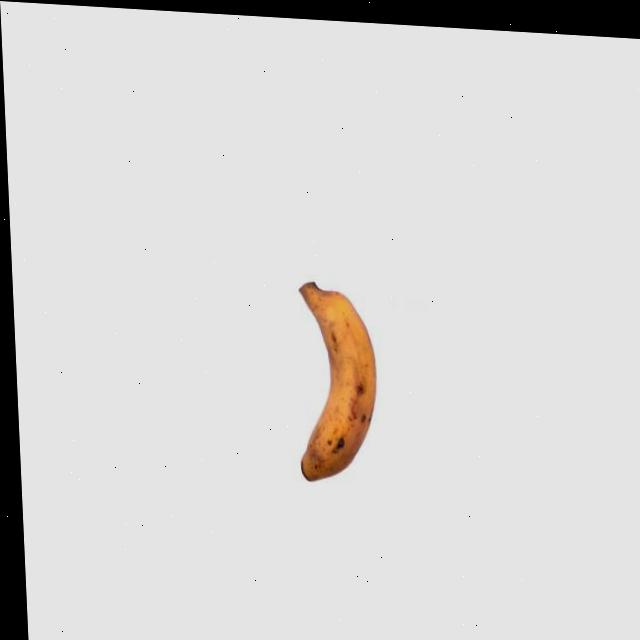banana: (290, 275, 385, 489)
